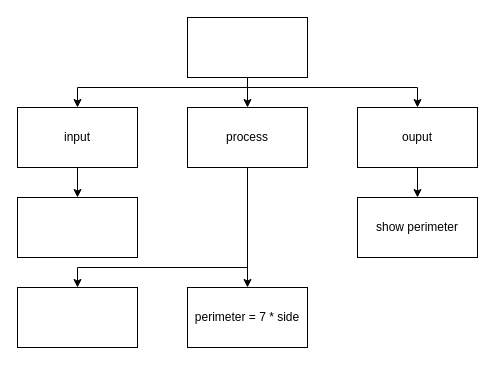
The diagram is 495 pixels wide and 365 high, and some of its shapes have lost their labels. The centre of each missing label's shape, as x and y in pixels:
"check if side is < 0" goes at (x=77, y=317).
"get side" goes at (x=77, y=227).
"heptagon perimeter program" goes at (x=247, y=47).
